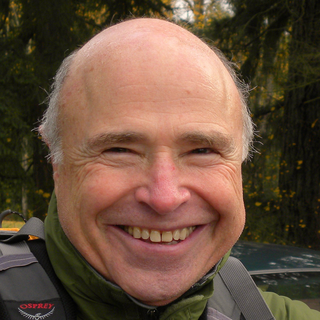eye: (94, 140, 144, 164), (179, 141, 226, 164)
